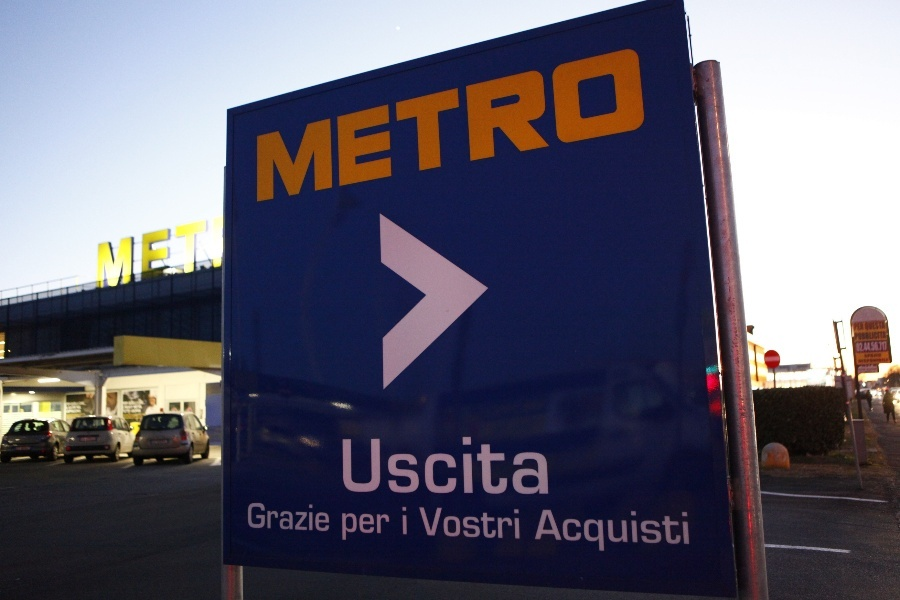text: (257, 42, 272, 208), (273, 42, 288, 208), (289, 42, 304, 208), (305, 42, 320, 208), (321, 42, 336, 208), (337, 42, 352, 208), (353, 42, 368, 208), (369, 42, 384, 208), (385, 42, 400, 208), (401, 42, 416, 208), (417, 42, 432, 208), (433, 42, 448, 208), (449, 42, 464, 208), (465, 42, 480, 208), (481, 42, 496, 208), (497, 42, 512, 208), (513, 42, 528, 208), (529, 42, 544, 208), (545, 42, 560, 208), (561, 42, 576, 208), (577, 42, 592, 208), (593, 42, 608, 208), (609, 42, 624, 208), (625, 42, 640, 208), (641, 42, 651, 208), (97, 219, 112, 291), (113, 219, 128, 291), (129, 219, 144, 291), (145, 219, 160, 291), (161, 219, 176, 291), (177, 219, 192, 291), (193, 219, 208, 291), (353, 435, 368, 500), (369, 435, 384, 500), (385, 435, 400, 500), (401, 435, 416, 500), (417, 435, 432, 500), (433, 435, 448, 500), (449, 435, 464, 500), (465, 435, 480, 500), (481, 435, 496, 500), (497, 435, 512, 500), (513, 435, 528, 500), (529, 435, 544, 500), (340, 435, 352, 500), (545, 508, 560, 553), (561, 508, 576, 553), (577, 508, 592, 553), (593, 508, 608, 553), (609, 508, 624, 553), (625, 508, 640, 553), (641, 508, 656, 553), (657, 508, 672, 553), (673, 508, 688, 553), (212, 215, 224, 270), (433, 507, 448, 542), (449, 507, 464, 542), (465, 507, 480, 542), (481, 507, 496, 542), (497, 507, 512, 542), (257, 501, 272, 535), (273, 501, 288, 535), (289, 501, 304, 535), (305, 501, 320, 535), (253, 42, 256, 208), (418, 507, 432, 542), (545, 435, 552, 500), (353, 512, 368, 542), (369, 512, 384, 542), (513, 507, 523, 542), (321, 501, 331, 535), (341, 512, 352, 542), (247, 501, 256, 535), (401, 506, 409, 537), (129, 399, 144, 414), (385, 512, 391, 542), (865, 341, 880, 353), (67, 401, 80, 414), (225, 215, 228, 270), (865, 321, 880, 332), (209, 219, 211, 291), (541, 508, 544, 553), (689, 508, 692, 553), (865, 332, 880, 341), (853, 321, 864, 332), (856, 341, 864, 353), (865, 358, 880, 364), (881, 341, 888, 353), (855, 332, 864, 341), (81, 401, 87, 414), (123, 399, 128, 414), (865, 354, 880, 358), (881, 321, 886, 332), (881, 332, 887, 341), (881, 358, 889, 364), (858, 358, 864, 364), (145, 399, 146, 414), (881, 354, 882, 358)
